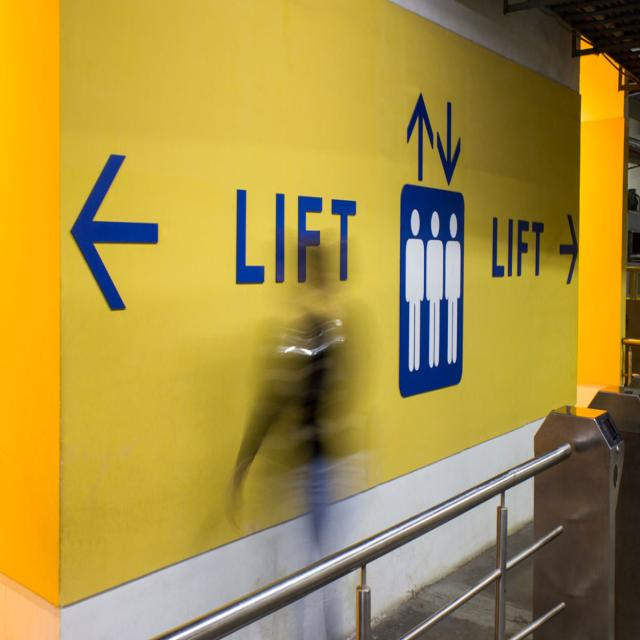lift_icon: (396, 85, 468, 410)
